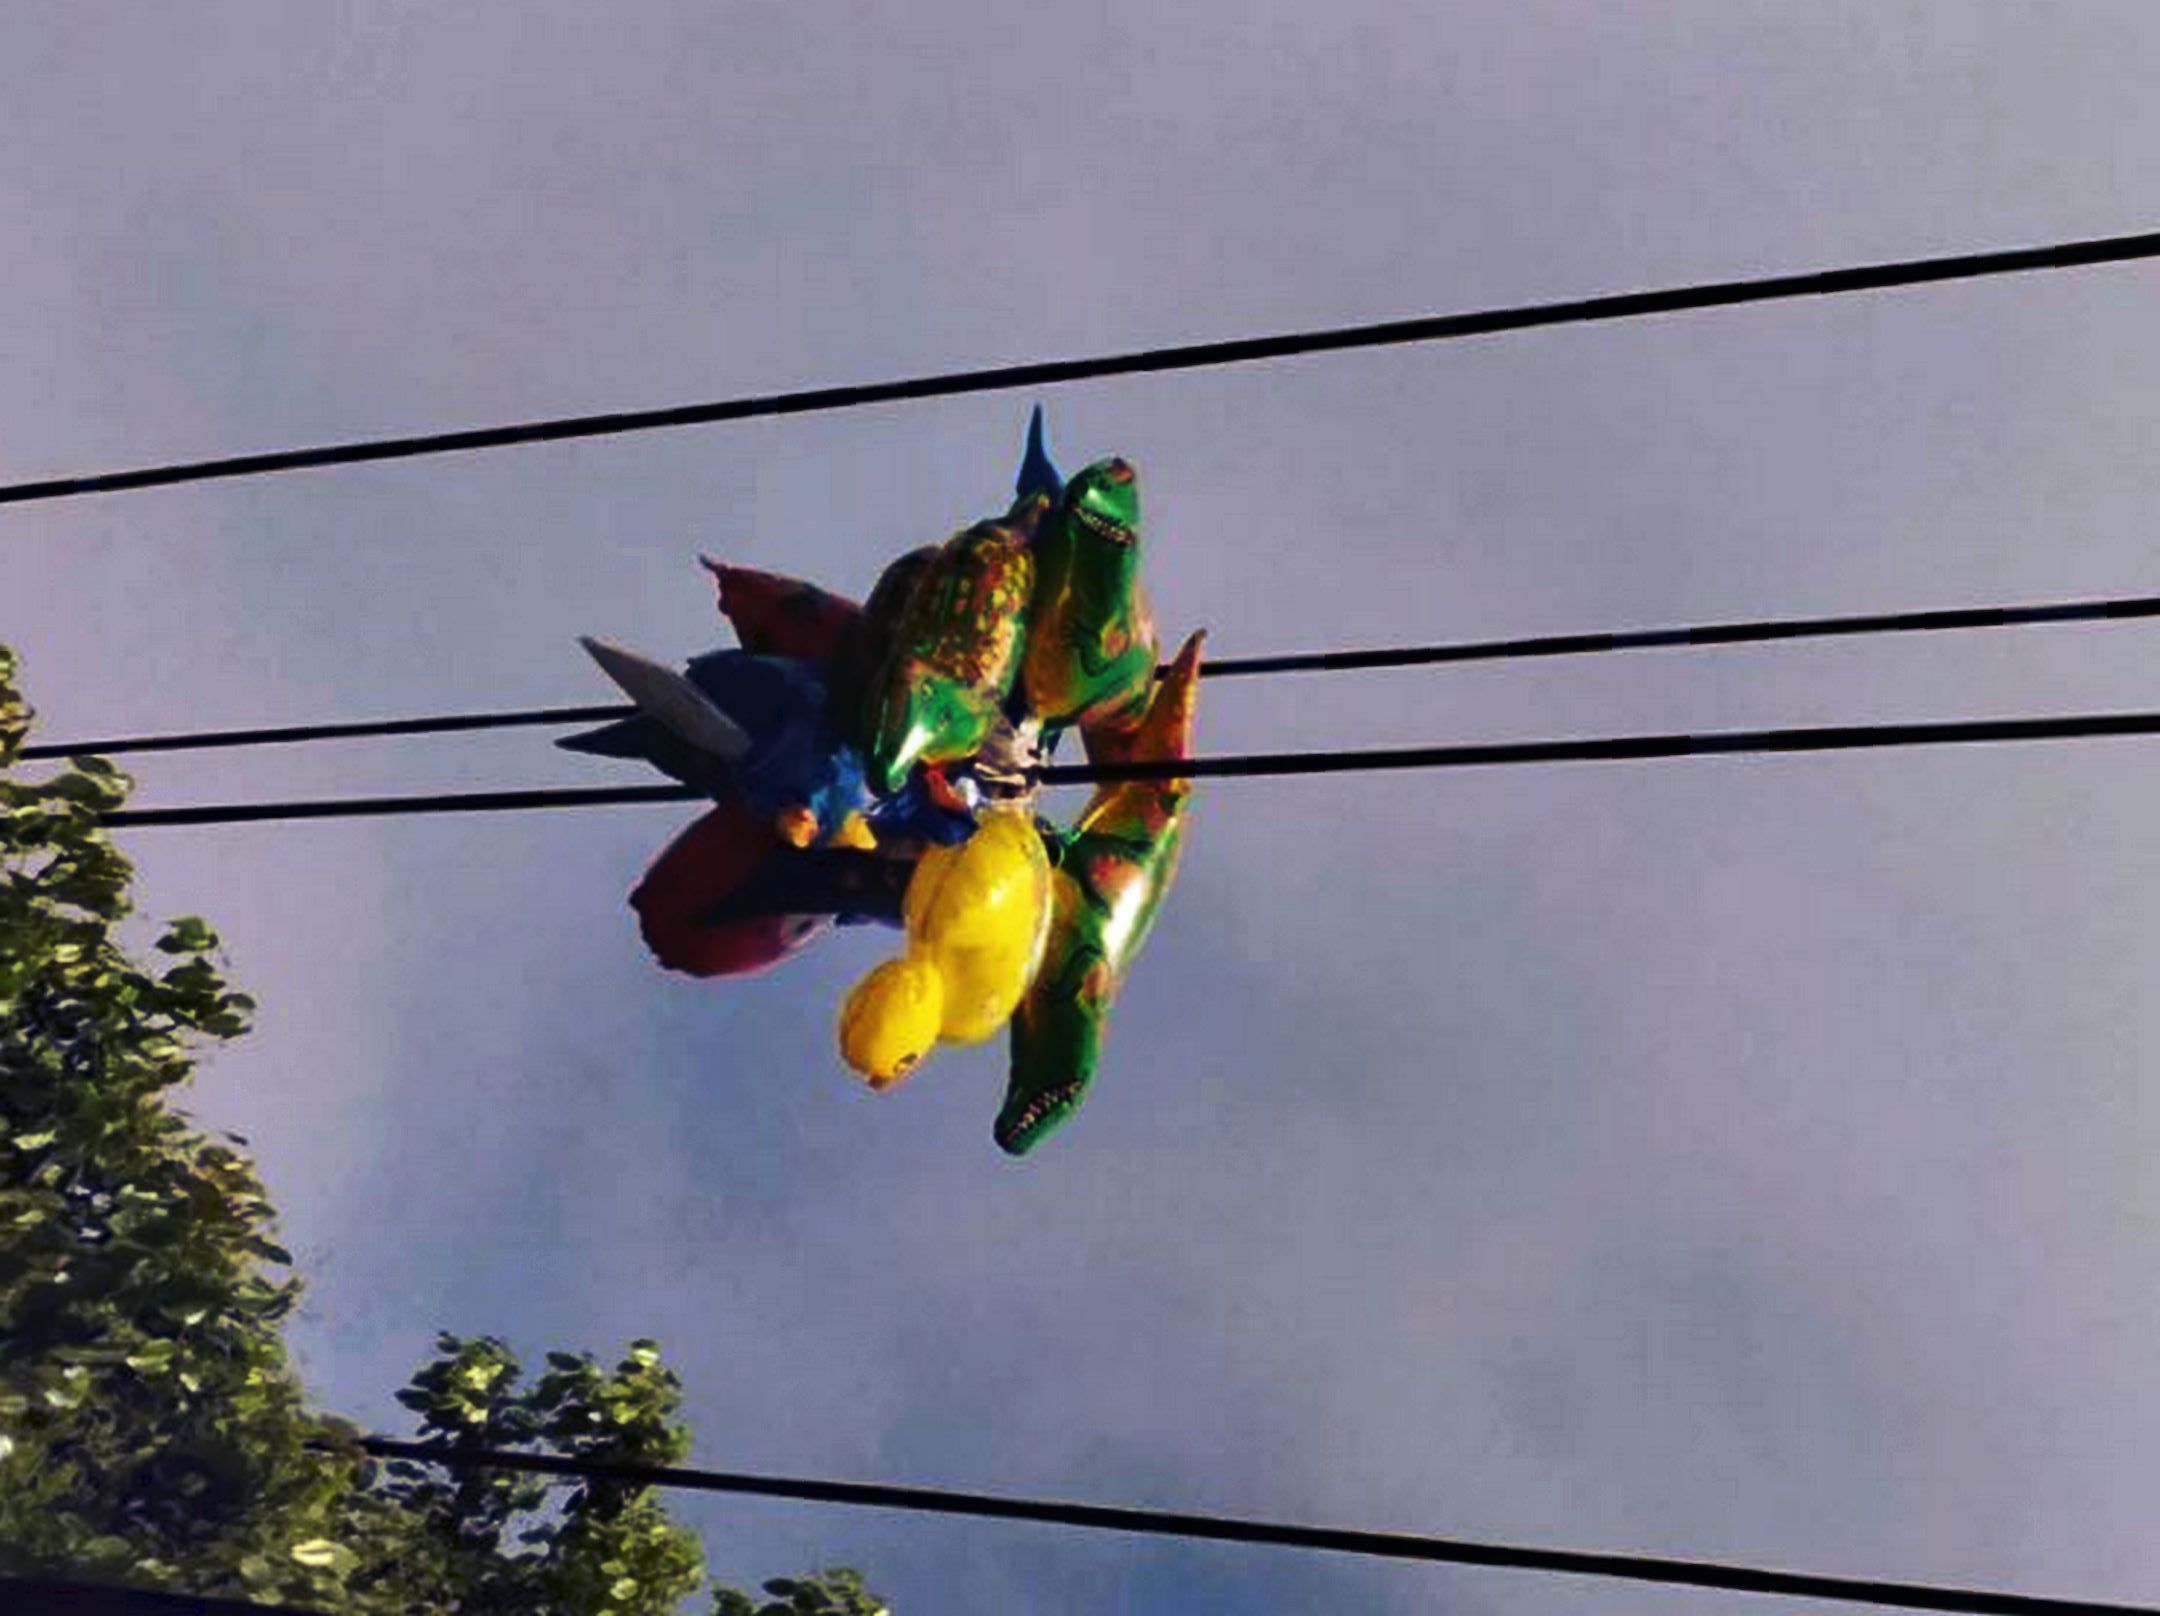wire foreign body: (540, 411, 1251, 1166)
